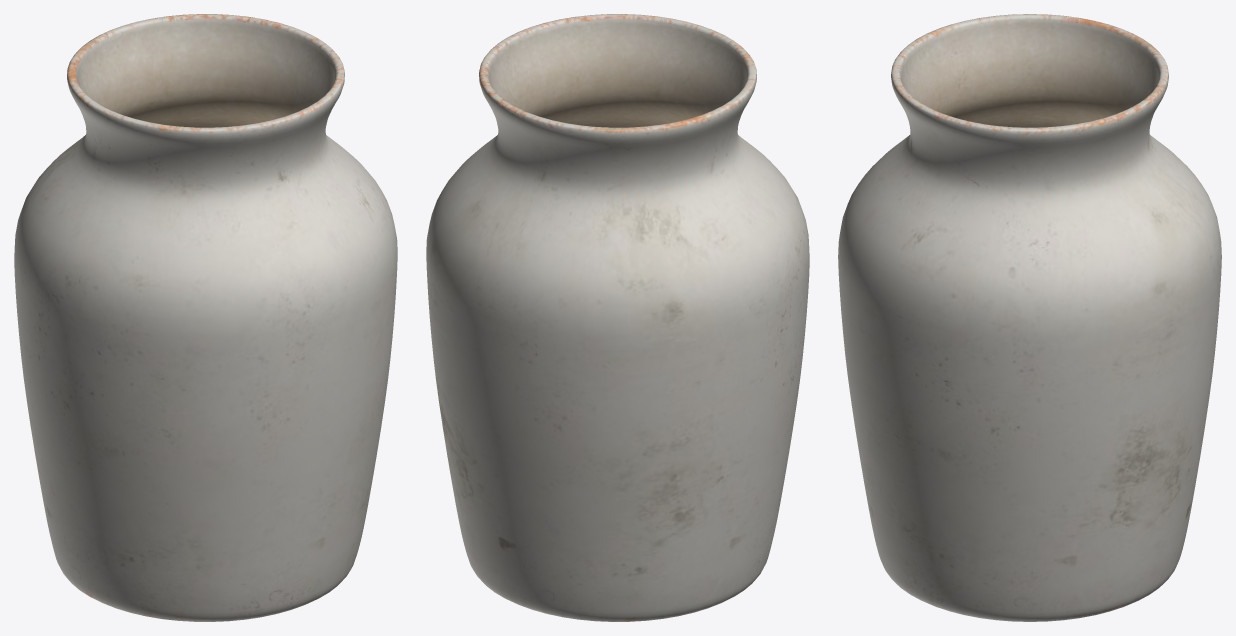
File: ceramic_vase_02.glb
3 renders of one model, left to right at view 1: azimuth 30°, elevation 25°; view 2: azimuth 150°, elevation 25°; view 3: azimuth 270°, elevation 25°, orthographic.
Visible parts, largest first — view 1: ceramic_vase_02; view 2: ceramic_vase_02; view 3: ceramic_vase_02.
Boxes of the visible parts, x1,y1,x2,y2 form: ceramic_vase_02: [14, 14, 397, 621]; ceramic_vase_02: [426, 14, 809, 621]; ceramic_vase_02: [838, 14, 1221, 621].
Bounding box in the file's own units: 0.2184 × 0.3092 × 0.2184.
1 material, 1 textured.
